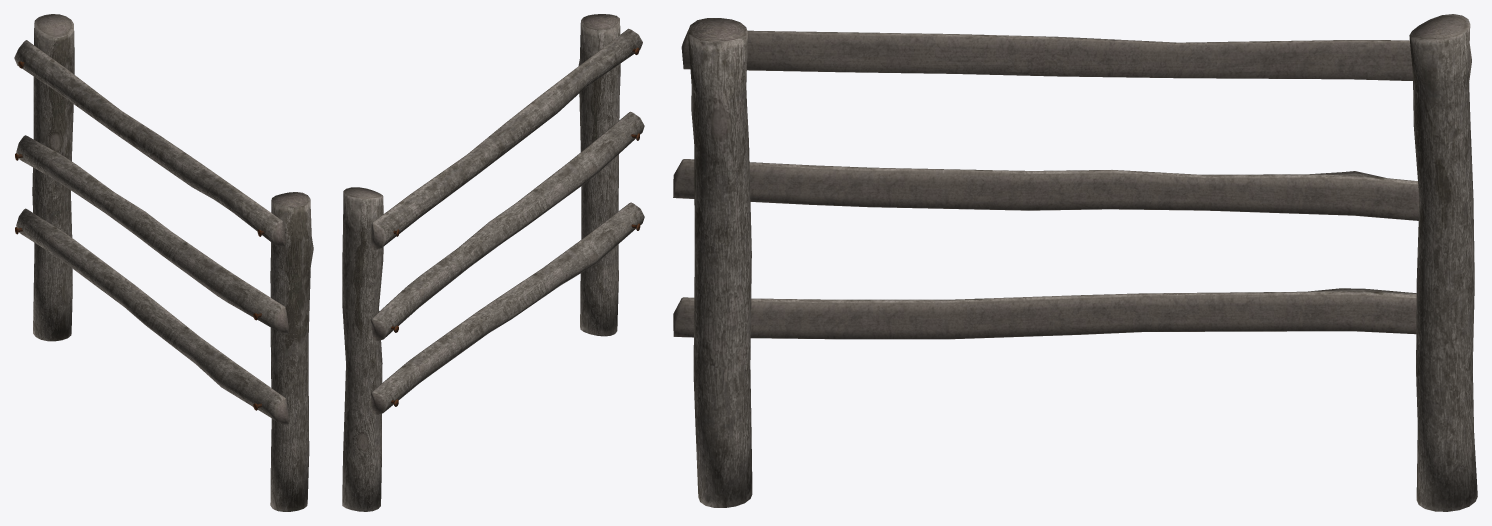
The model's file is fence_varA_A.gltf.
3 renders of one model, left to right at view 1: azimuth 30°, elevation 25°; view 2: azimuth 150°, elevation 25°; view 3: azimuth 270°, elevation 25°, orthographic. The views are drawn at different scales.
Parts seen in each view (by area): view 1: WoodenFence_VarA_A_LOD1; view 2: WoodenFence_VarA_A_LOD1; view 3: WoodenFence_VarA_A_LOD1.
Boxes of the visible parts, left/top/right/bottom form: WoodenFence_VarA_A_LOD1: left=14, top=14, right=313, bottom=511; WoodenFence_VarA_A_LOD1: left=342, top=14, right=644, bottom=511; WoodenFence_VarA_A_LOD1: left=673, top=14, right=1477, bottom=511.
Size of the model in its own units: 0.2615 by 1.33 by 2.03.
1 material, 1 textured.
